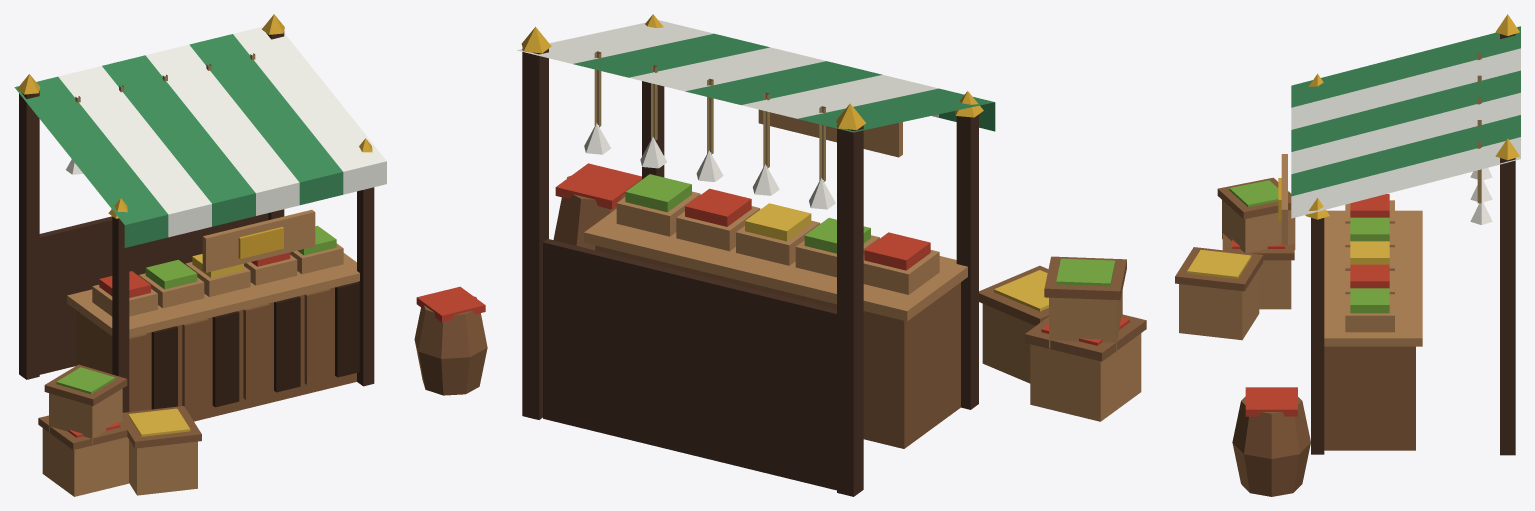
Rendered from stall_fruit.fbx.
3 views of the same model, side by side, from view 1: azimuth 30°, elevation 25°; view 2: azimuth 150°, elevation 25°; view 3: azimuth 270°, elevation 25° (orthographic). The views are drawn at different scales.
Visible parts, largest first — view 1: stall_fruit; view 2: stall_fruit; view 3: stall_fruit.
Part boxes in pixels (<box>): stall_fruit: <box>14,14,487,496</box>; stall_fruit: <box>517,14,1146,496</box>; stall_fruit: <box>1175,14,1520,496</box>.
Size of the model in its own units: 4.01 by 2.64 by 2.64.
